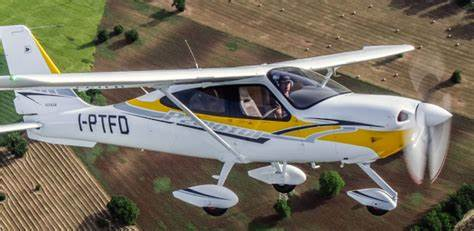Aeronef_de_loisir: (1, 24, 459, 219)
